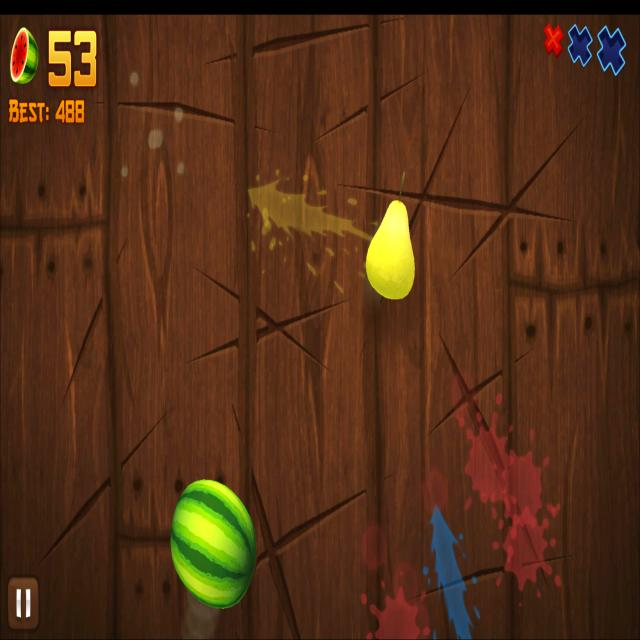fruit: (171, 480, 257, 610), (366, 199, 415, 300)
